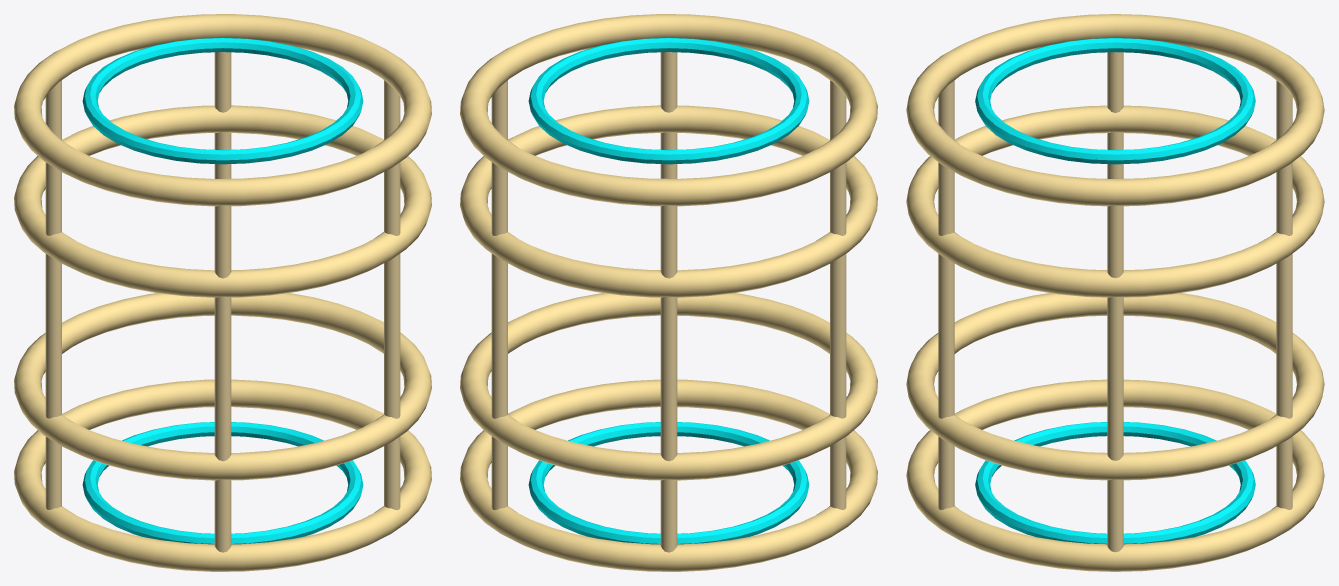
File: fusion_hohlraum.glb
3 renders of one model, left to right at view 1: azimuth 30°, elevation 25°; view 2: azimuth 150°, elevation 25°; view 3: azimuth 270°, elevation 25°, orthographic.
Parts seen in each view (by area): view 1: Torus; view 2: Torus; view 3: Torus.
Boxes of the visible parts, <box> form: Torus: <box>14,14,431,571</box>; Torus: <box>460,14,877,571</box>; Torus: <box>906,14,1324,571</box>.
Size of the model in its own units: 3.32 by 3.48 by 3.32.
